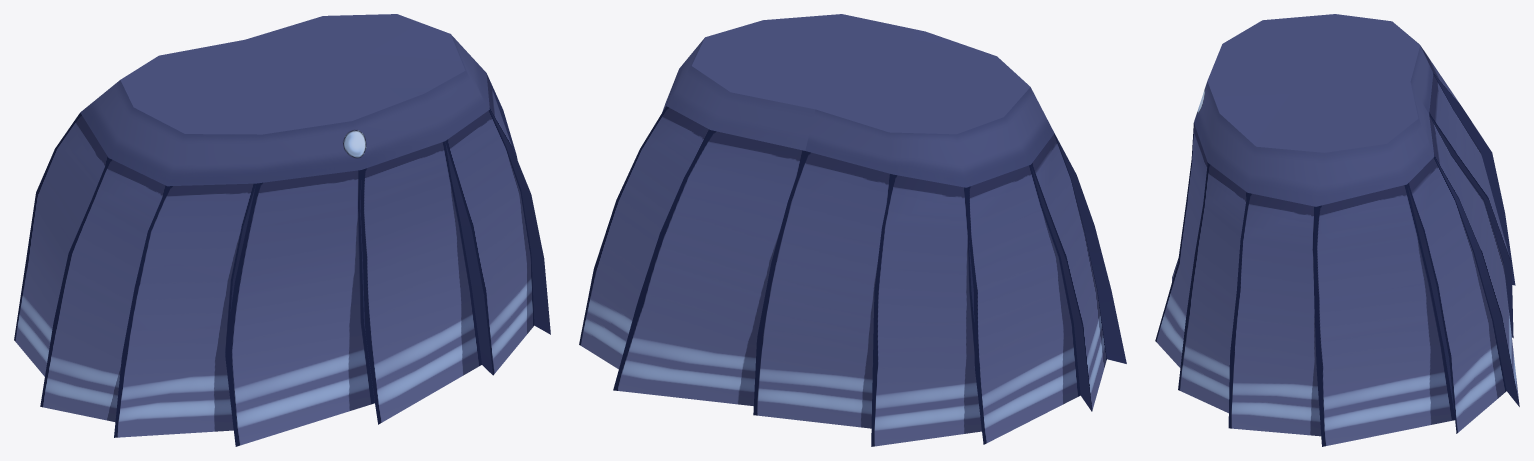
The model's file is skirt.glb.
3 views of the same model, side by side, from view 1: azimuth 30°, elevation 25°; view 2: azimuth 150°, elevation 25°; view 3: azimuth 270°, elevation 25° (orthographic). The views are drawn at different scales.
Visible parts, largest first — view 1: skirt; view 2: skirt; view 3: skirt.
Boxes of the visible parts, bbox=[...] form: skirt: bbox=[14, 14, 550, 446]; skirt: bbox=[579, 14, 1126, 446]; skirt: bbox=[1155, 14, 1519, 446].
Bounding box in the file's own units: 0.5813 × 0.3265 × 0.4082.
Materials: 1 (1 with a texture image).
